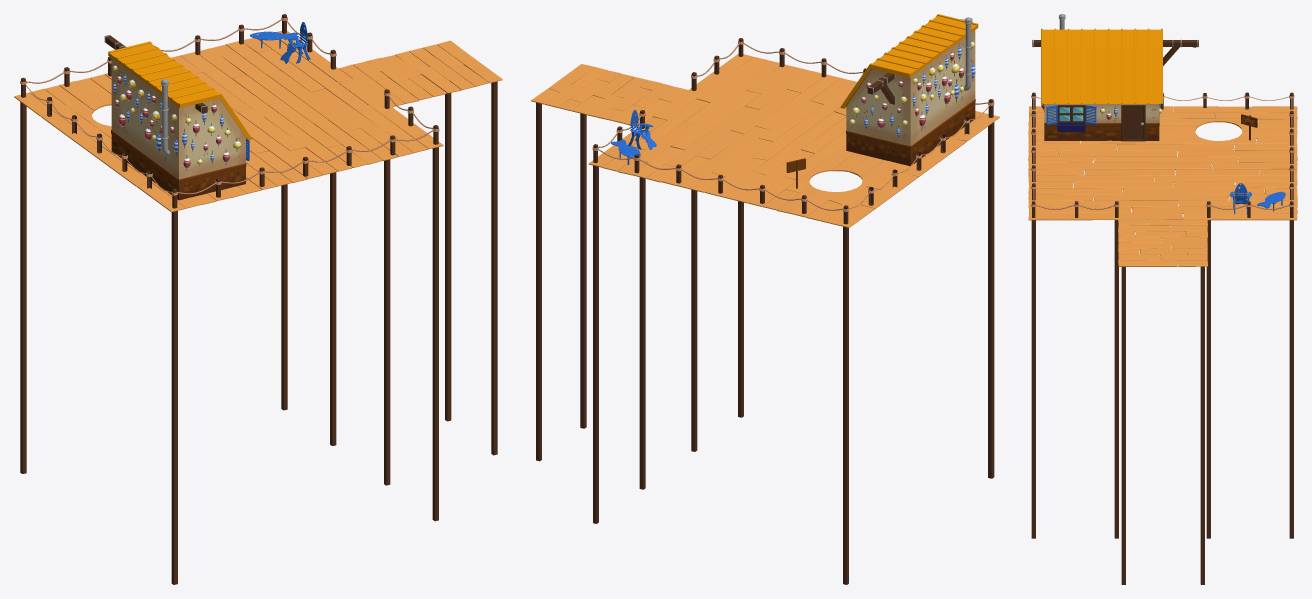
File: Shed_DOCK02.fbx
The picture shows the model from 3 angles, left to right: view 1: azimuth 30°, elevation 25°; view 2: azimuth 150°, elevation 25°; view 3: azimuth 270°, elevation 25°; orthographic projection. The views are drawn at different scales.
Visible parts, largest first — view 1: Dock, DockSupports, Shed, roof, roofRidges, fenceR, fenceL, backFence; view 2: Dock, DockSupports, Shed, roof, roofRidges, fenceL, backFence; view 3: Dock, DockSupports, roof, Shed, roofRidges, door, fenceR, fenceL, beam.
Part boxes in pixels (bbox=[...]): Dock: bbox=[14, 31, 502, 212]; DockSupports: bbox=[20, 81, 497, 584]; Shed: bbox=[111, 58, 246, 200]; roof: bbox=[108, 43, 251, 140]; roofRidges: bbox=[108, 41, 251, 138]; fenceR: bbox=[171, 129, 433, 208]; fenceL: bbox=[20, 19, 282, 97]; backFence: bbox=[24, 83, 171, 192]; Dock: bbox=[531, 54, 999, 227]; DockSupports: bbox=[536, 102, 994, 584]; Shed: bbox=[846, 30, 975, 165]; roof: bbox=[841, 16, 978, 108]; roofRidges: bbox=[840, 14, 978, 107]; fenceL: bbox=[598, 148, 849, 224]; backFence: bbox=[849, 104, 989, 208]; Dock: bbox=[1028, 106, 1297, 266]; DockSupports: bbox=[1031, 220, 1293, 584]; roof: bbox=[1043, 29, 1160, 103]; Shed: bbox=[1044, 104, 1159, 140]; roofRidges: bbox=[1041, 28, 1162, 103]; door: bbox=[1121, 105, 1145, 141]; fenceR: bbox=[1031, 92, 1036, 201]; fenceL: bbox=[1289, 92, 1294, 201]; beam: bbox=[1032, 40, 1198, 65].
Size of the model in its own units: 7622 by 9285 by 5428.
